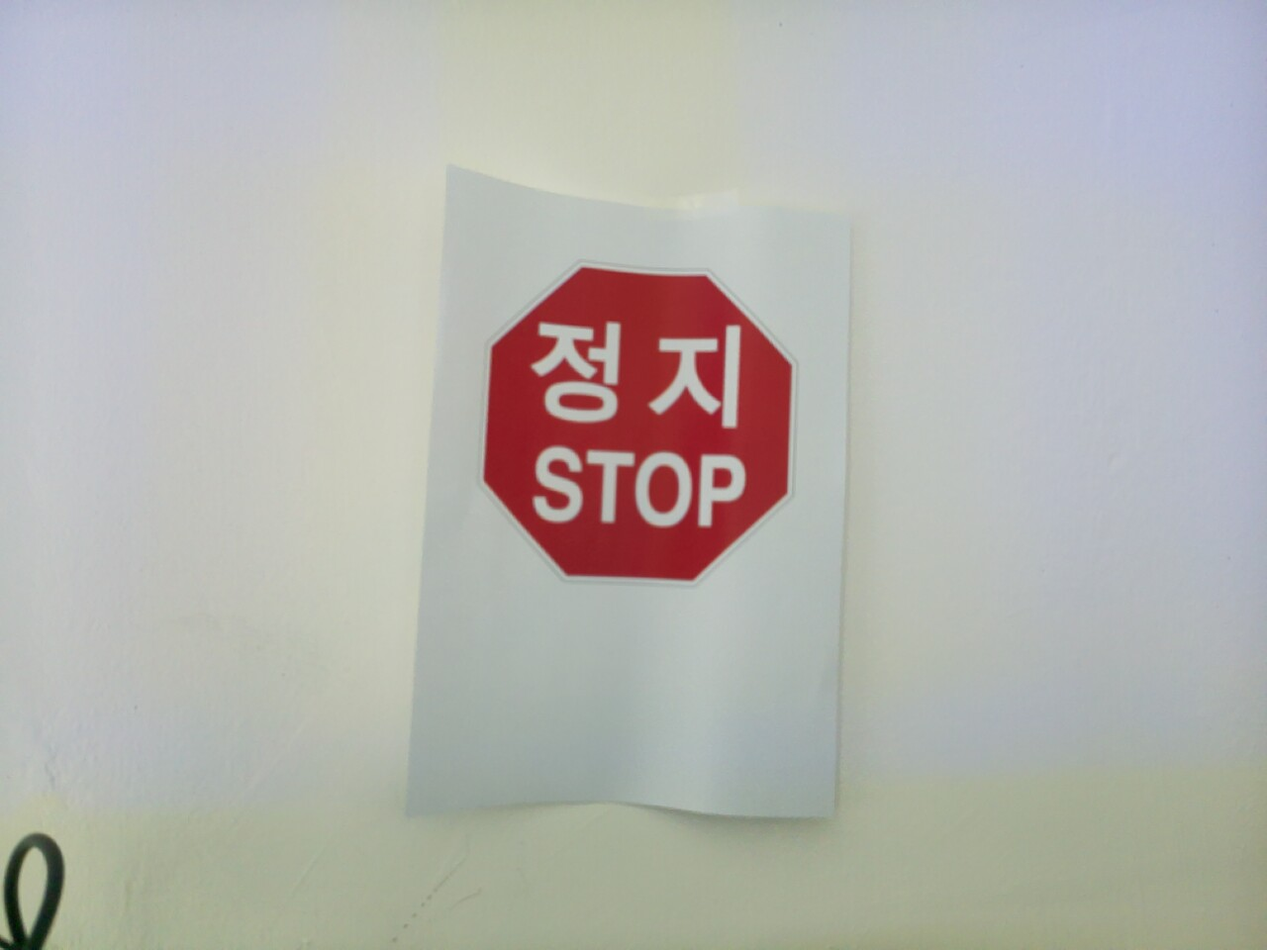stop: (473, 257, 802, 591)
